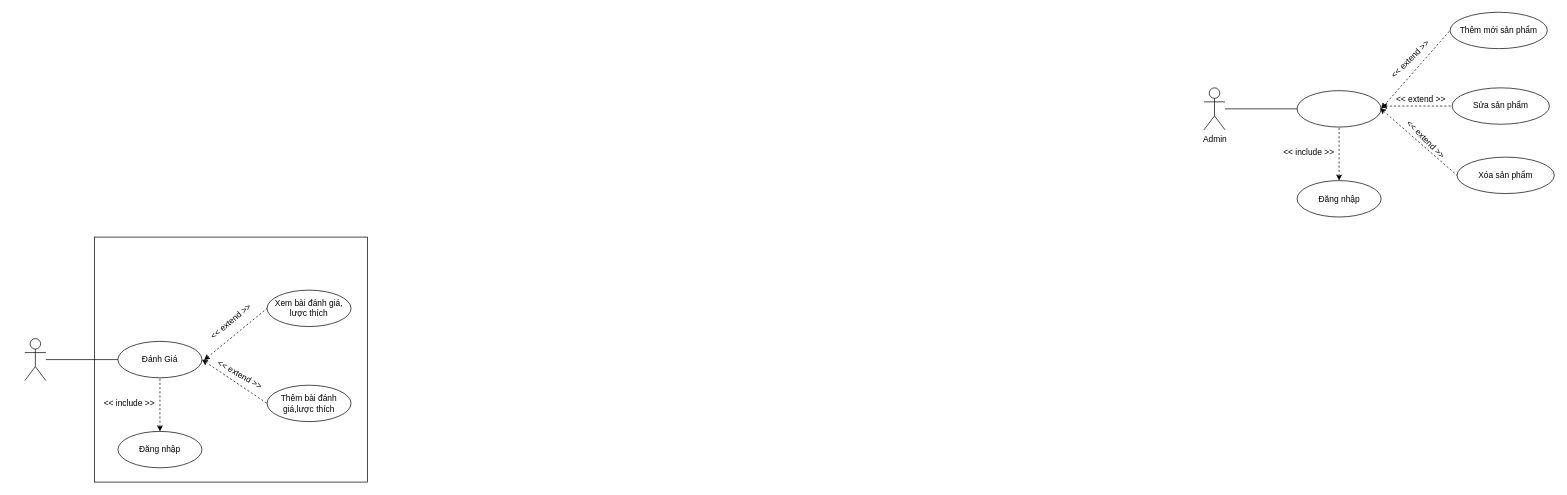
The diagram is 1567 pixels wide and 495 high, and some of its shapes have lost their labels. The shapes that lost their labels are listed below. From the top down, each one's centre as x and y in pixels, then its label:
At (1338,108): "Quản lý sản phẩm".
At (35,359): "Khách Hàng".
